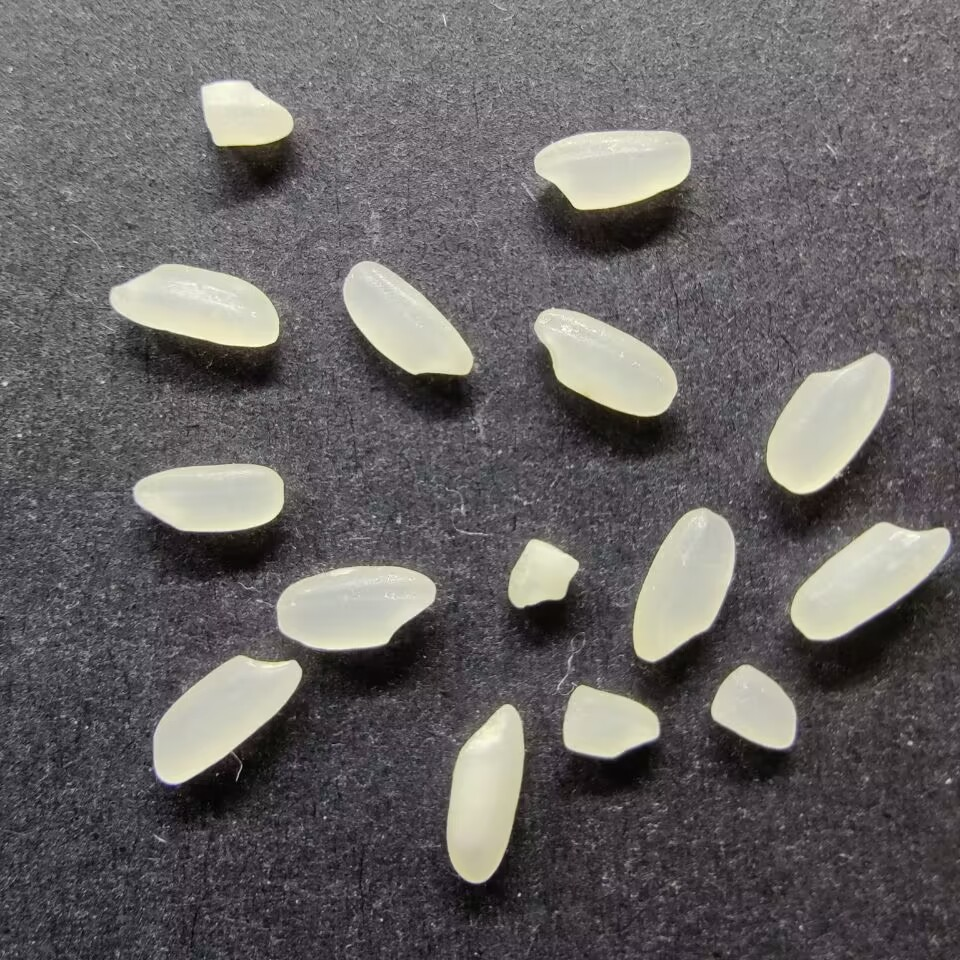broken: (708, 662, 798, 752), (559, 683, 660, 761), (197, 80, 296, 147), (506, 538, 580, 610)
rice: (152, 653, 306, 786), (791, 519, 953, 644), (763, 349, 894, 495), (631, 503, 738, 666), (532, 304, 680, 418), (340, 257, 477, 378), (443, 701, 526, 886), (108, 263, 280, 348), (530, 127, 694, 214), (272, 566, 437, 652), (130, 462, 285, 533)
